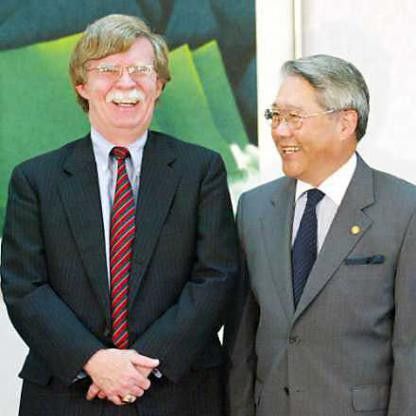face: (267, 59, 343, 181), (85, 17, 162, 131)
